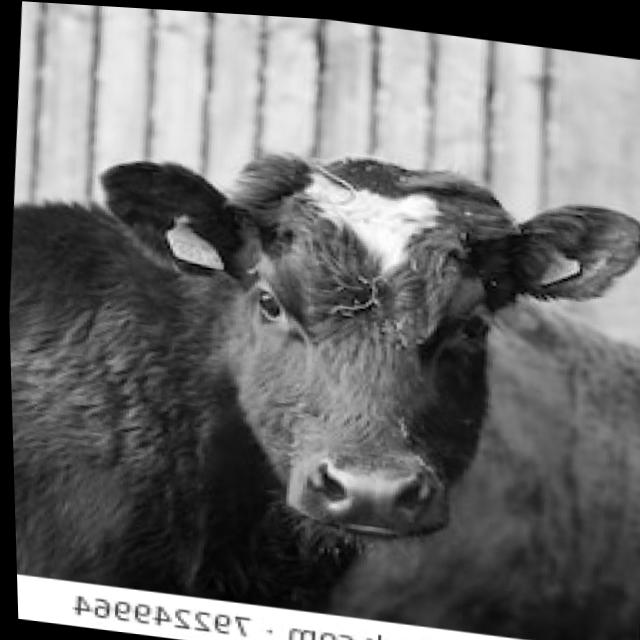cowFace: (66, 114, 640, 572)
